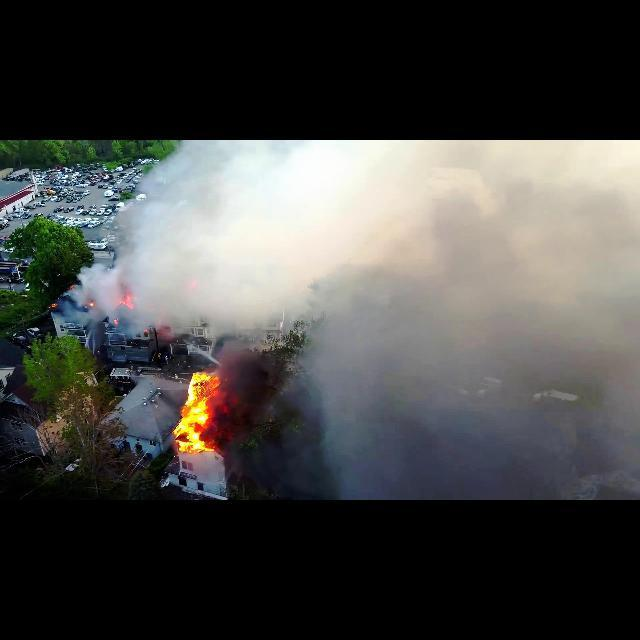Fire: (175, 366, 231, 456), (116, 292, 140, 310), (46, 304, 58, 308), (142, 328, 150, 334), (89, 302, 95, 308), (70, 284, 74, 292), (114, 320, 120, 324)
Smoke: (260, 142, 640, 498), (111, 140, 267, 288), (146, 291, 258, 335), (78, 260, 114, 302)
